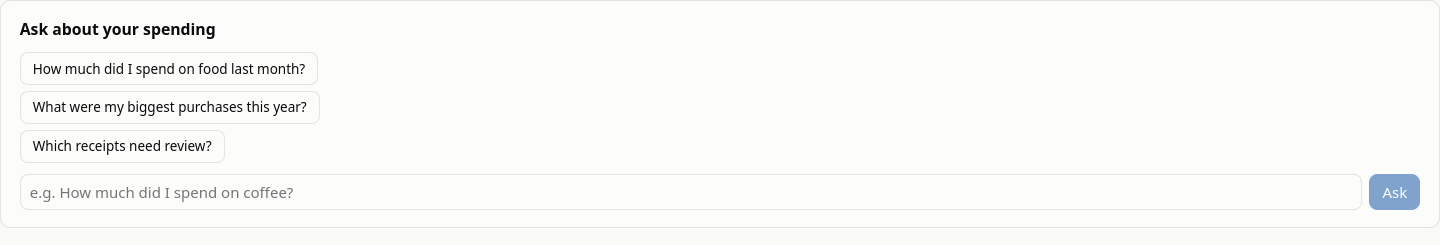
Test: shows the error when the assistant is unavailable
Step 1. Type "Hi" into the field named "Question" → [691, 192], box [20,174,1362,210]
Then press Enter
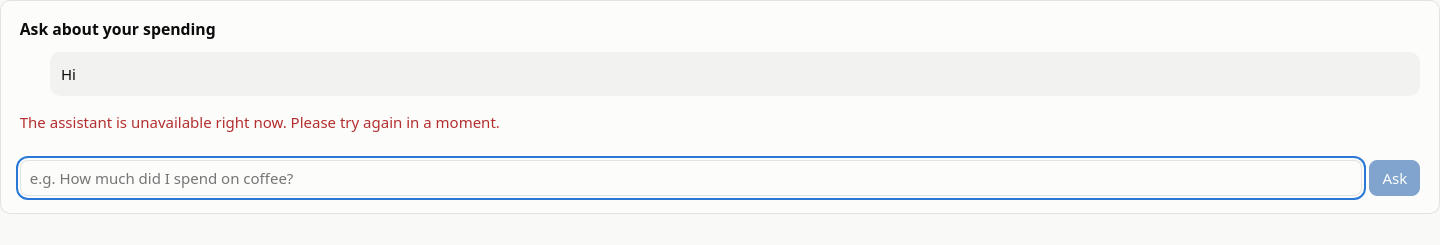
Now the text "assistant is unavailable" is shown, box [20,112,500,132]
